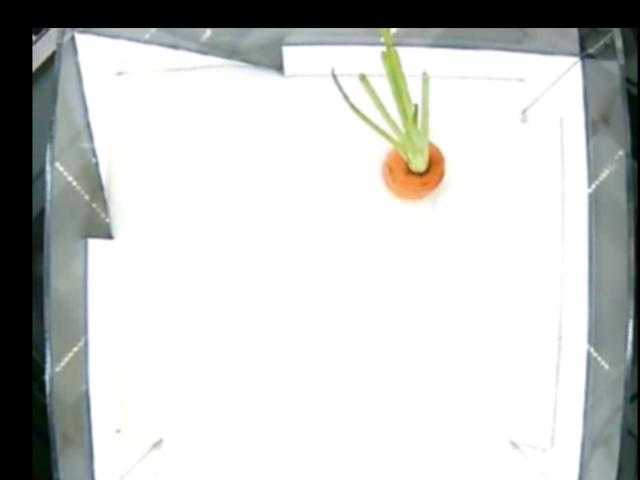Carrot: (363, 104, 446, 199)
